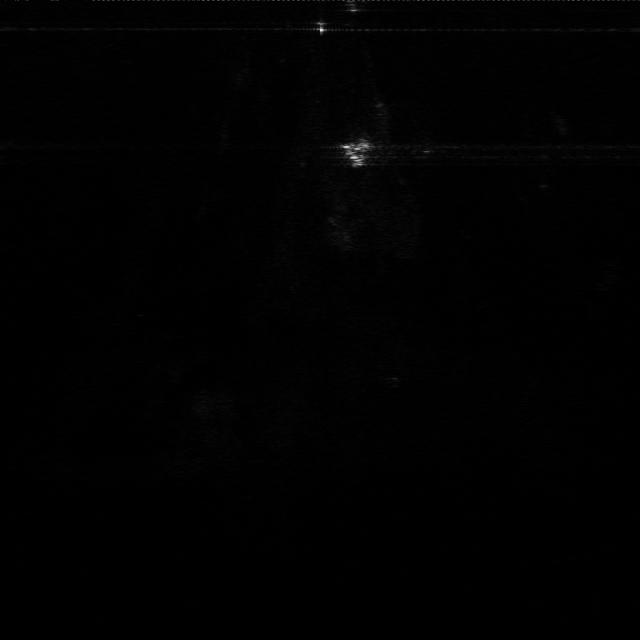rov: (334, 140, 374, 168)
